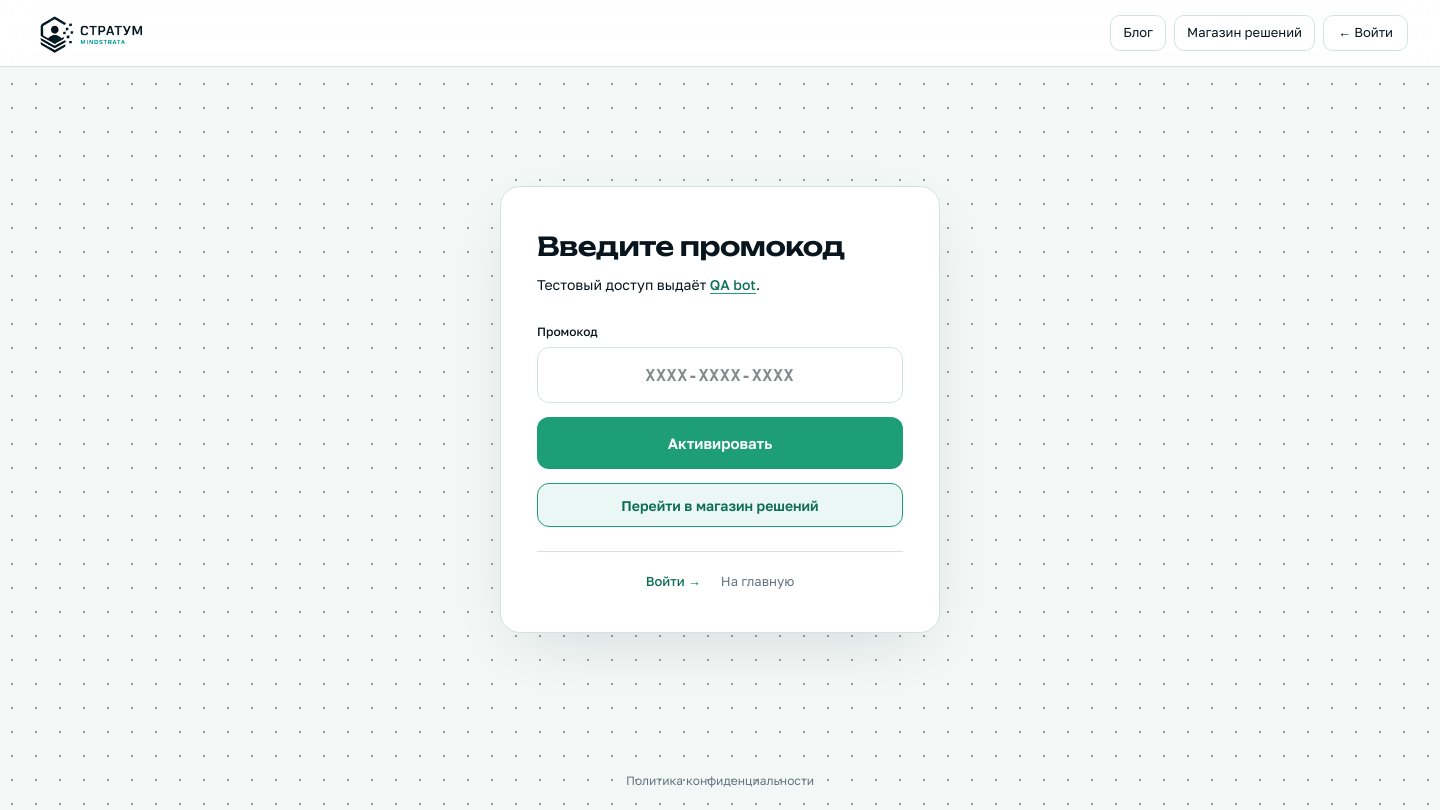
Scenario: AccessPage P0 › keeps promo input after backend validation error
The width and height of the screenshot is (1440, 810).
In the field with placeholder "XXXX-XXXX-XXXX": {"x": 720, "y": 375} x1=537 y1=347 x2=903 y2=403, type "bad-code"
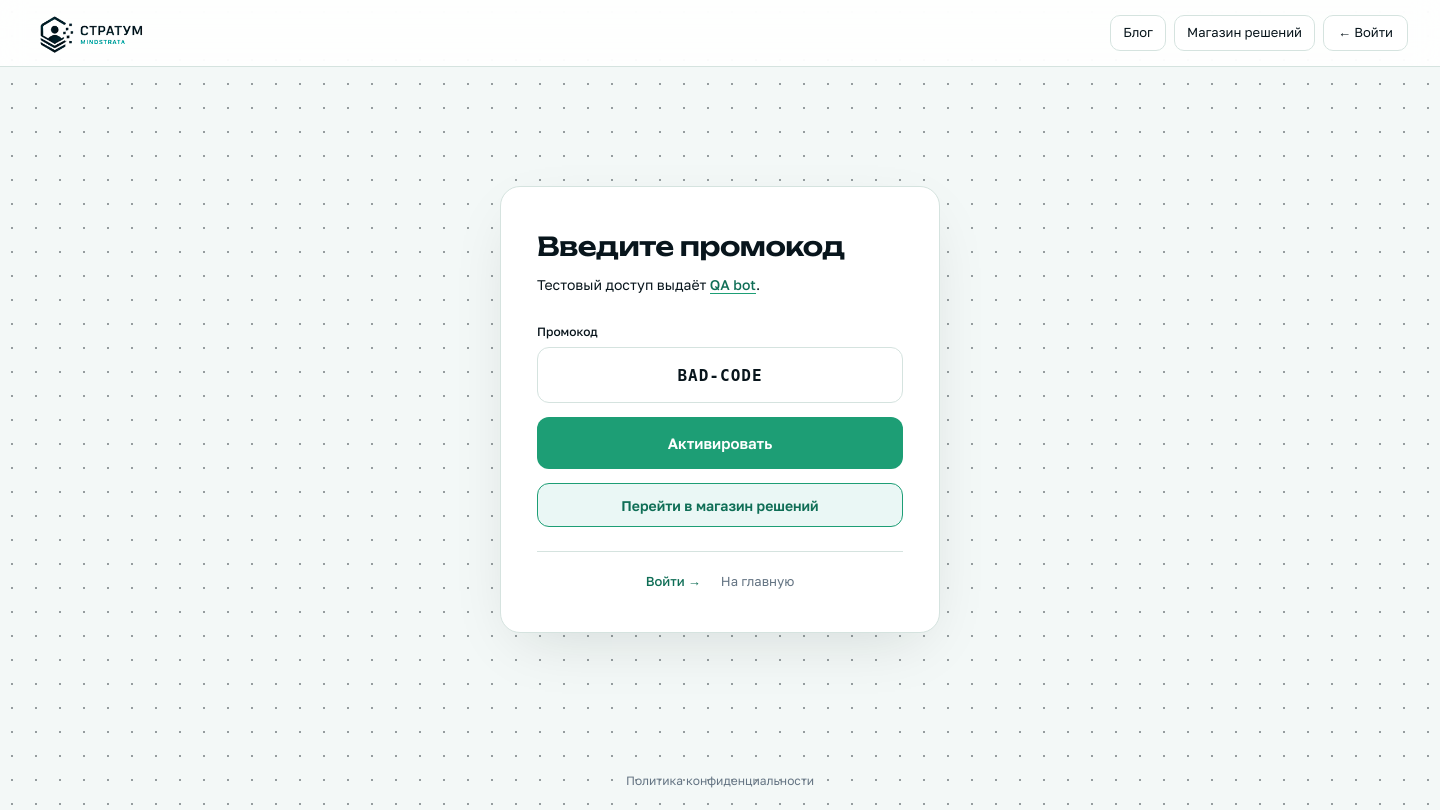
Click the button "Активировать": {"x": 720, "y": 443} x1=537 y1=417 x2=903 y2=469
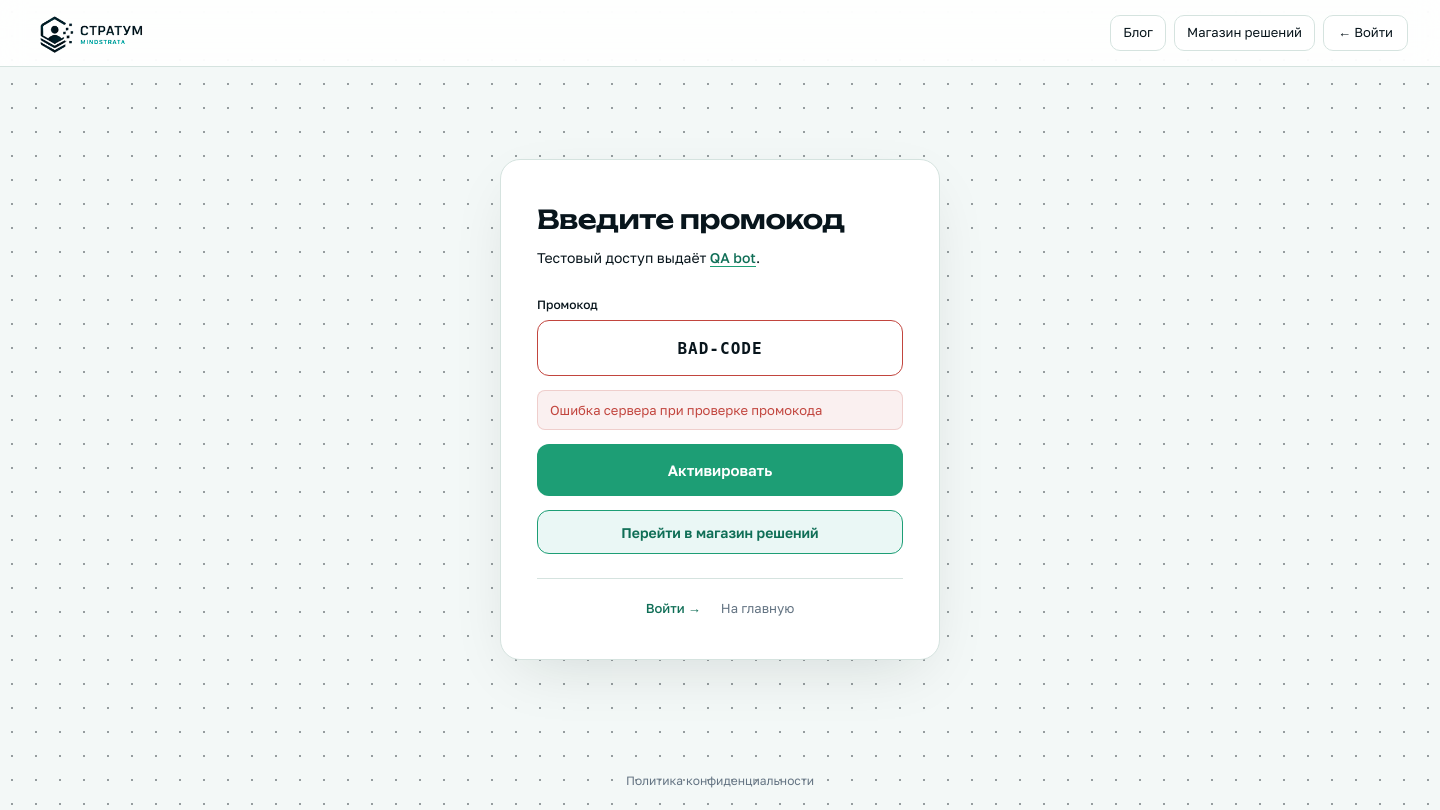
Check: the text "Ошибка сервера при проверке промокода" is shown, box x1=537 y1=390 x2=903 y2=430
